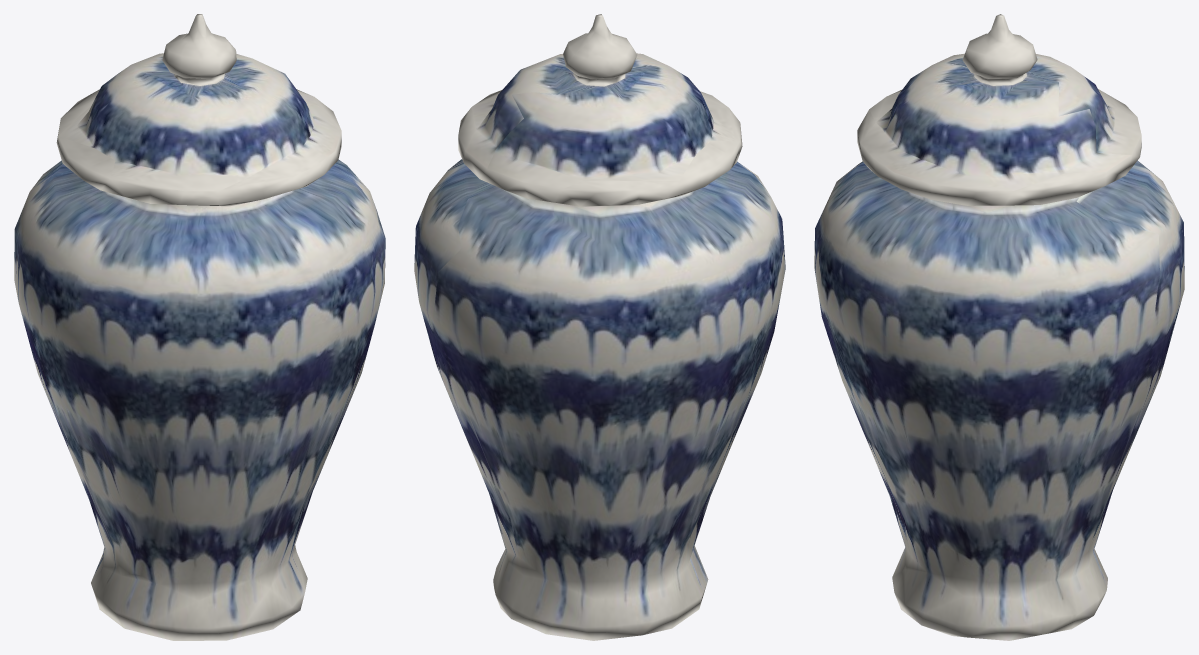
File: Jar.001.fbx
The picture shows the model from 3 angles, left to right: view 1: azimuth 30°, elevation 25°; view 2: azimuth 150°, elevation 25°; view 3: azimuth 270°, elevation 25°; orthographic projection.
Visible parts, largest first — view 1: Jar.001; view 2: Jar.001; view 3: Jar.001.
Boxes of the visible parts, <box> form: Jar.001: <box>14,14,385,640</box>; Jar.001: <box>414,14,785,640</box>; Jar.001: <box>814,14,1184,640</box>.
Size of the model in its own units: 25.78 by 44.99 by 25.91.
1 material, 1 textured.
